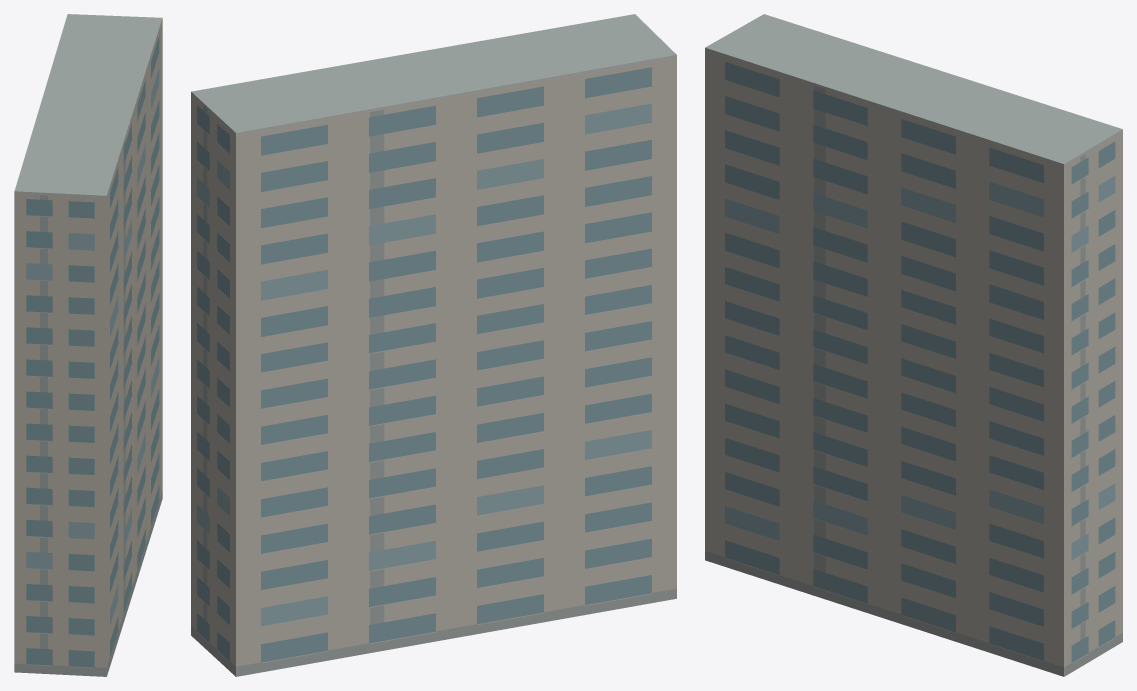
Rendered from survey-upis-32729739.glb.
The picture shows the model from 3 angles, left to right: view 1: azimuth 30°, elevation 25°; view 2: azimuth 150°, elevation 25°; view 3: azimuth 270°, elevation 25°; orthographic projection. The views are drawn at different scales.
Visible parts, largest first — view 1: survey-upis-32729739.tmp; view 2: survey-upis-32729739.tmp; view 3: survey-upis-32729739.tmp.
Boxes of the visible parts, x1,y1,x2,y2 form: survey-upis-32729739.tmp: (14, 14, 162, 676); survey-upis-32729739.tmp: (191, 14, 676, 676); survey-upis-32729739.tmp: (705, 14, 1122, 676).
Bounding box in the file's own units: 28.75 × 45.75 × 33.8.
